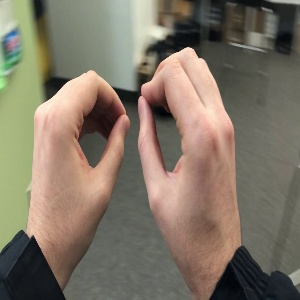hand: (138, 47, 240, 265), (29, 70, 130, 253)
